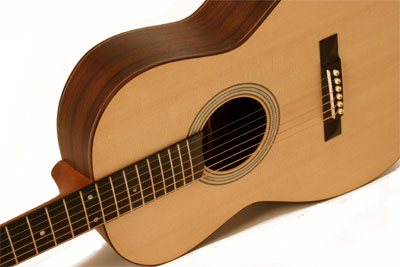guitar: (1, 1, 399, 265)
